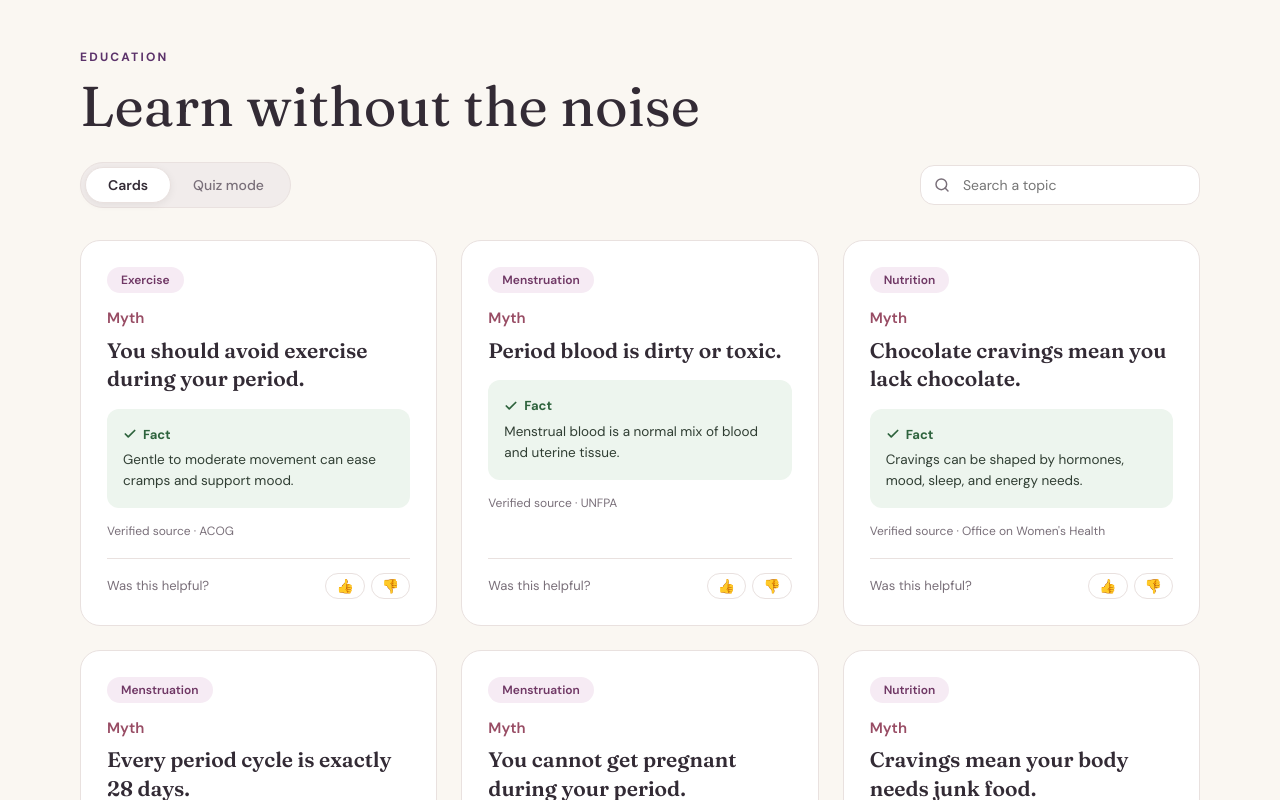
Test: Education feature › switches to Quiz mode and handles answering
The width and height of the screenshot is (1280, 800).
Click the button "Quiz mode".
click(228, 185)  # box [171,168,286,202]
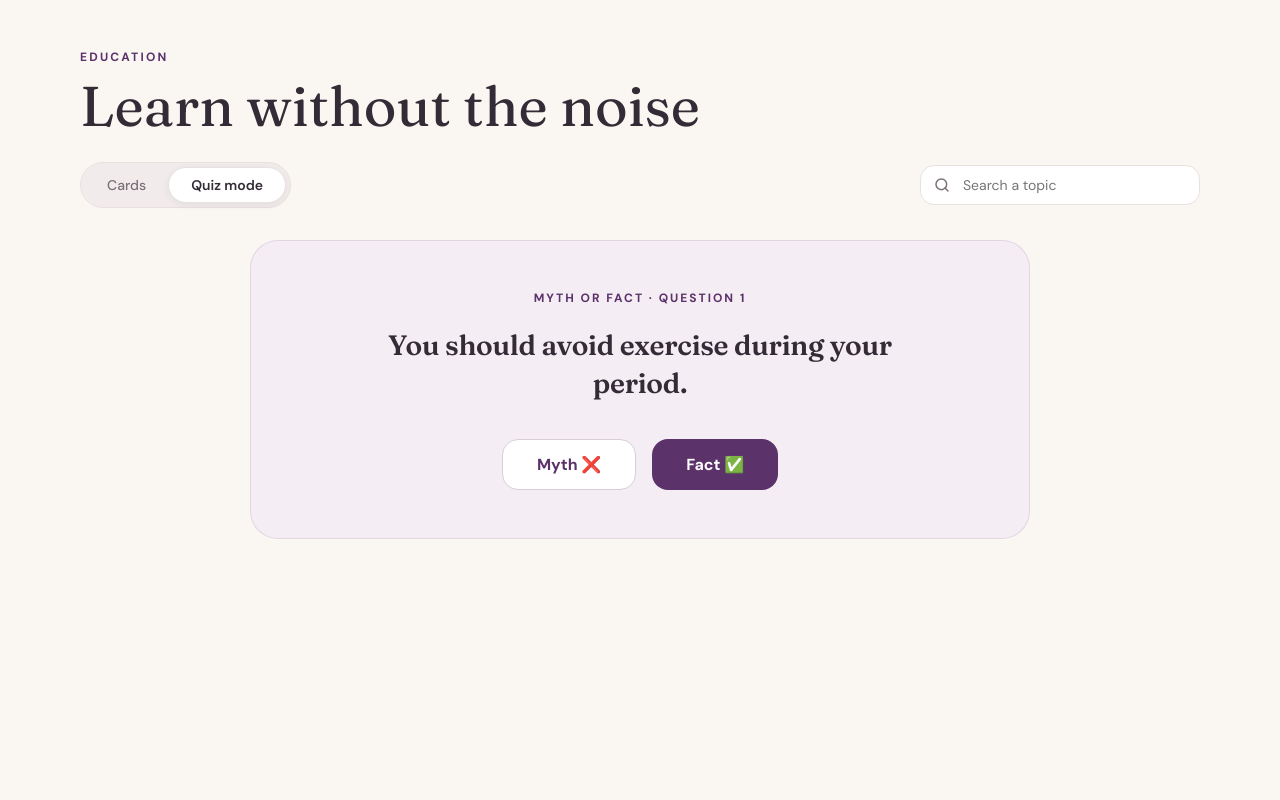
Result: the text "MYTH OR FACT · QUESTION 1" is shown at [534,290,746,306]
Click the button "Myth ❌".
click(569, 464)  # box [502,439,636,490]
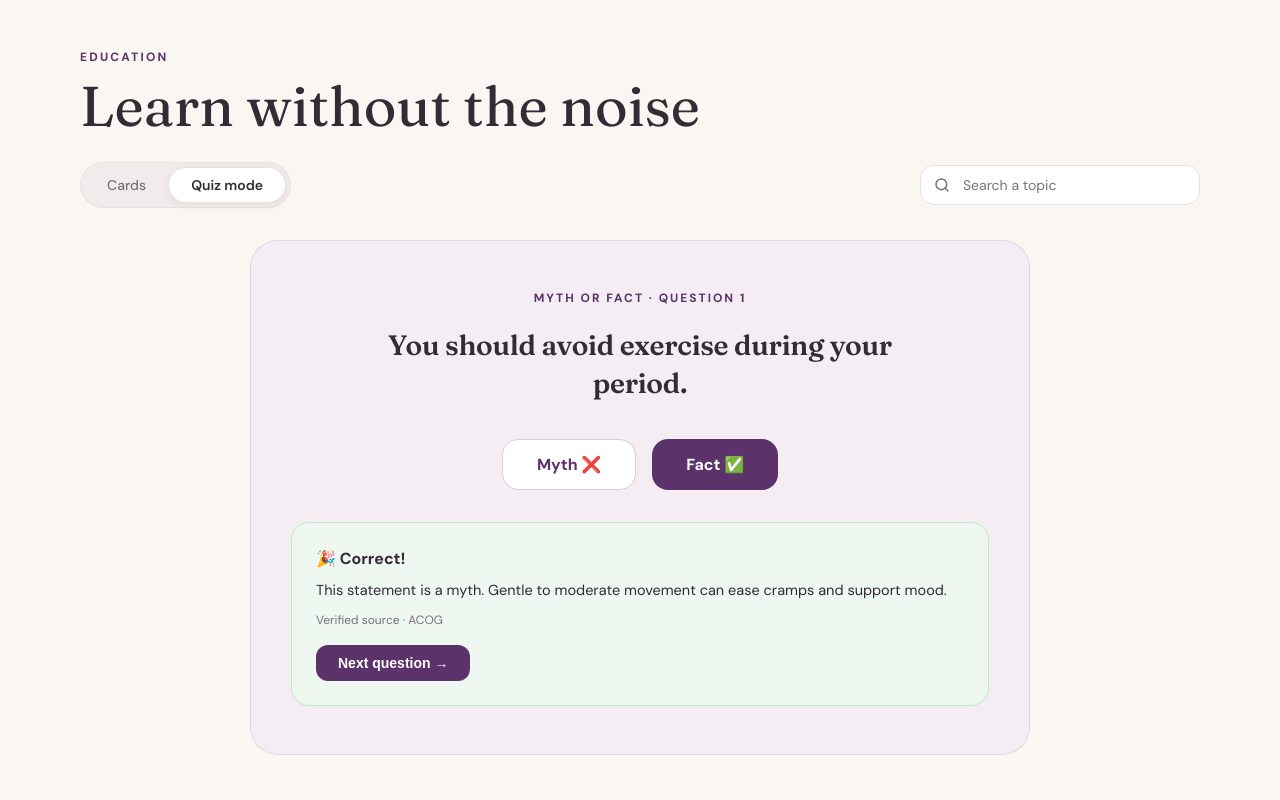
Result: the text "🎉 Correct!" is shown at [316,548,405,569]
Result: the button "Next question →" is shown at [316,646,470,682]
